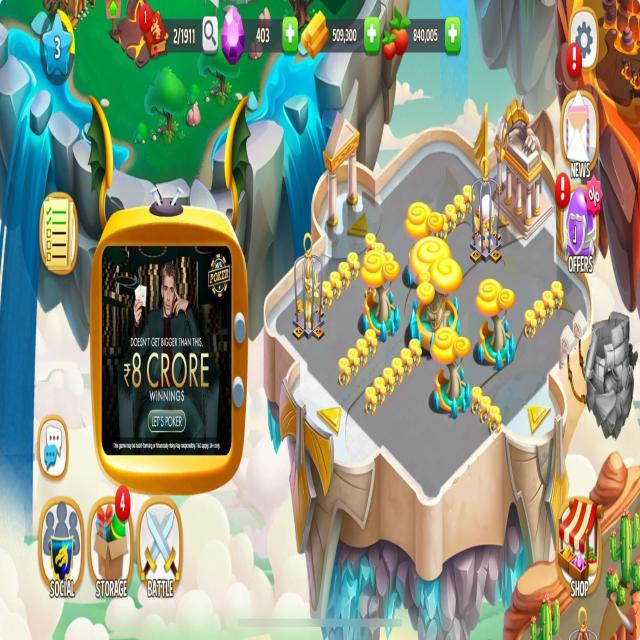billboard: (99, 242, 235, 464)
